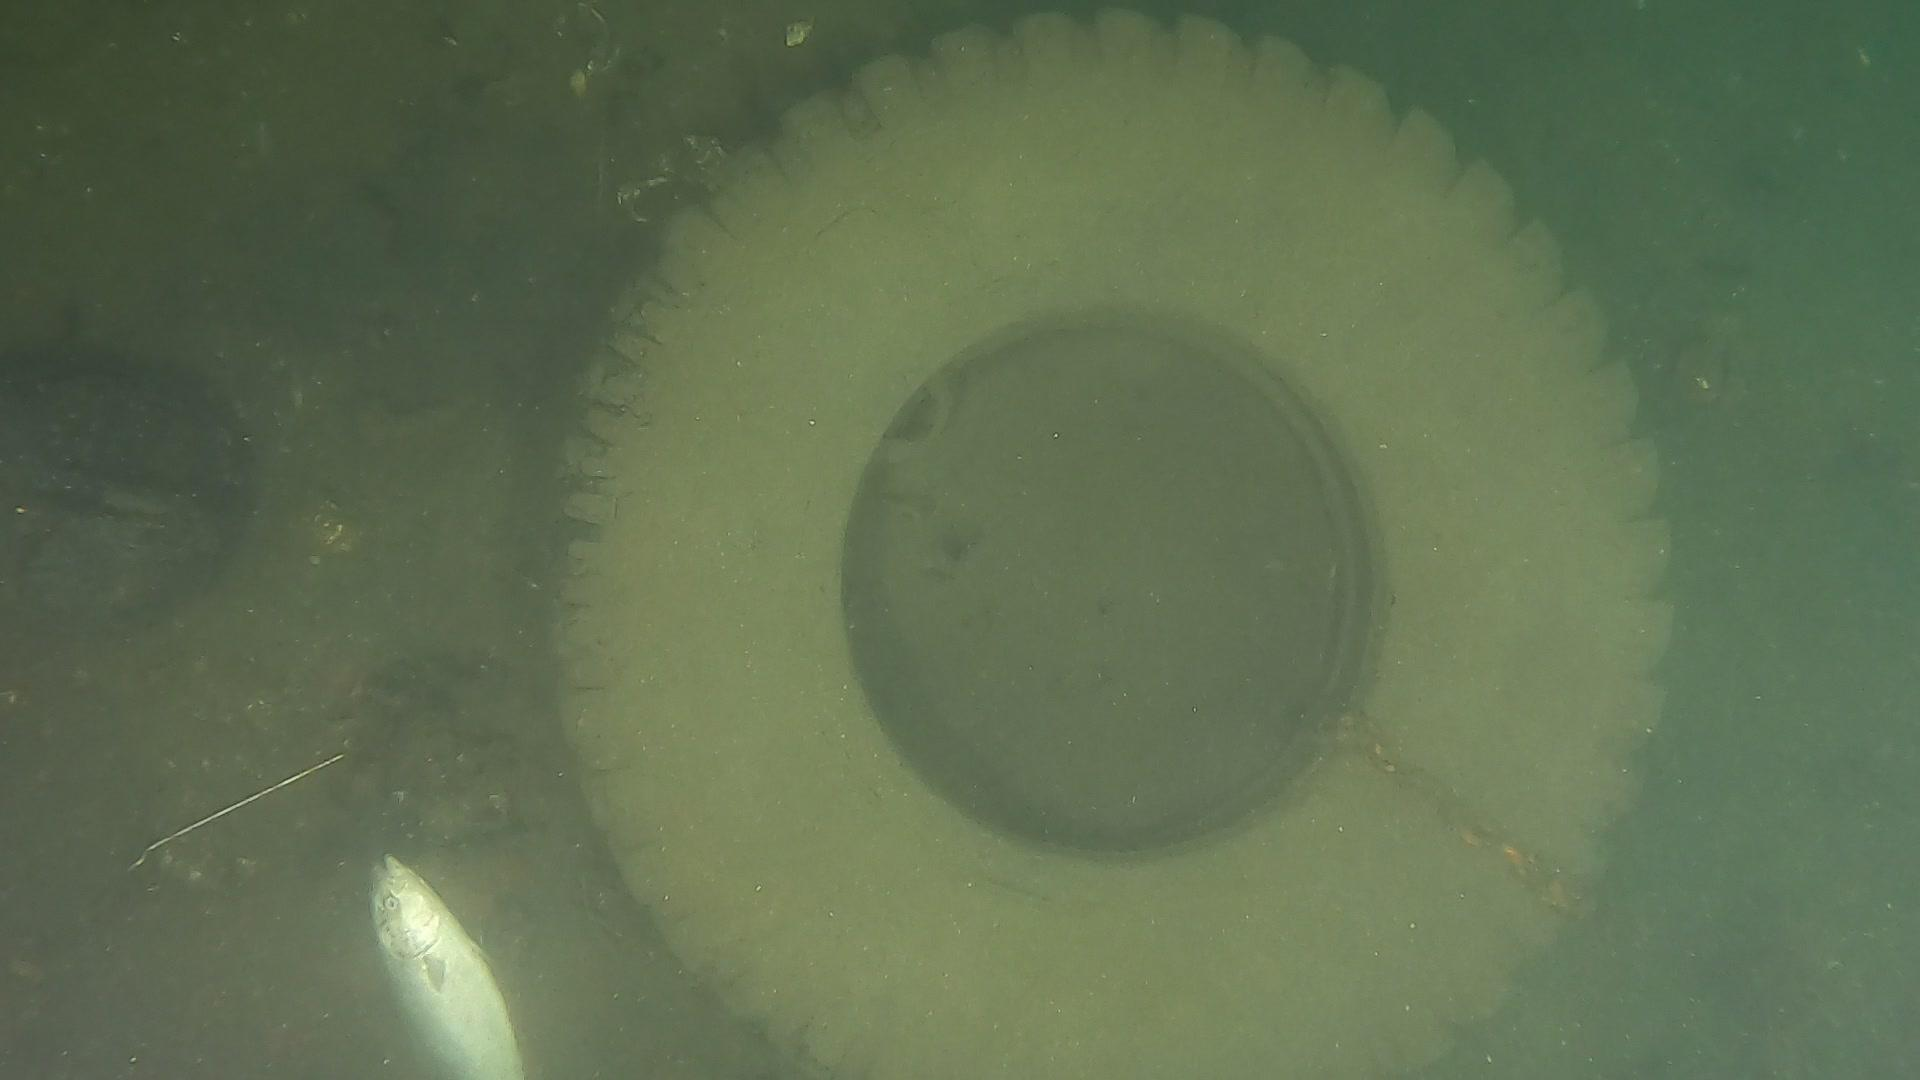tire: (547, 0, 1680, 1080)
